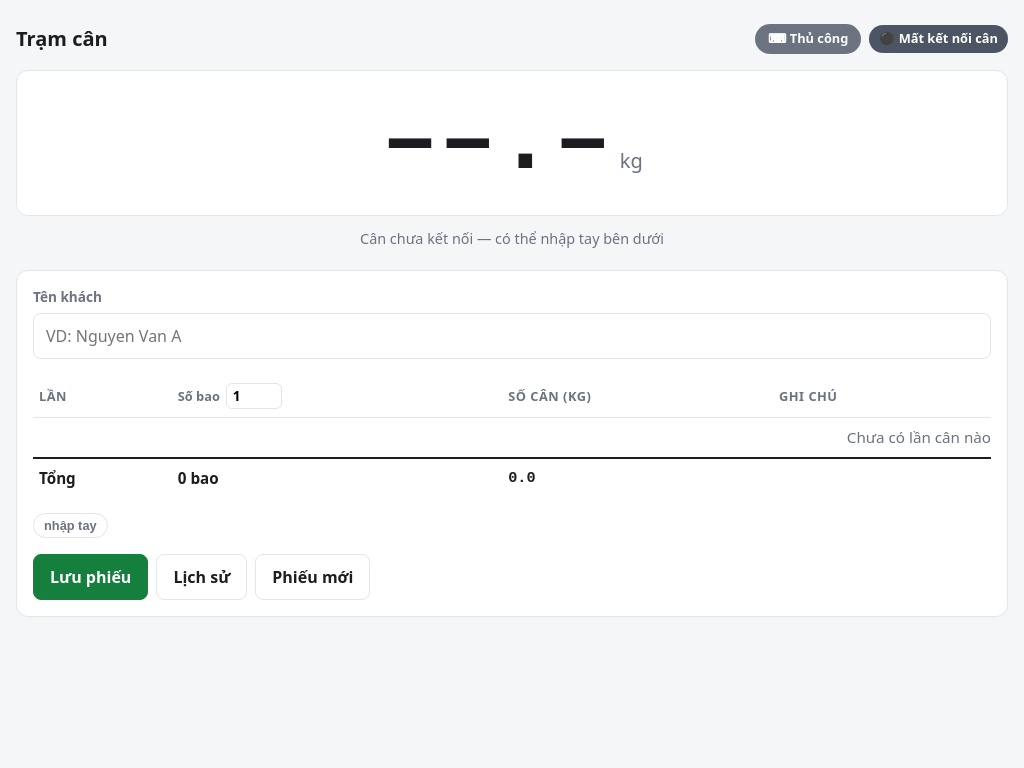
Scenario: WeighScreen › thêm lần cân thủ công khi không kết nối cân
This screenshot has width=1024, height=768.
Click the button "nhập tay" at (70, 526), box [33,513,108,538]
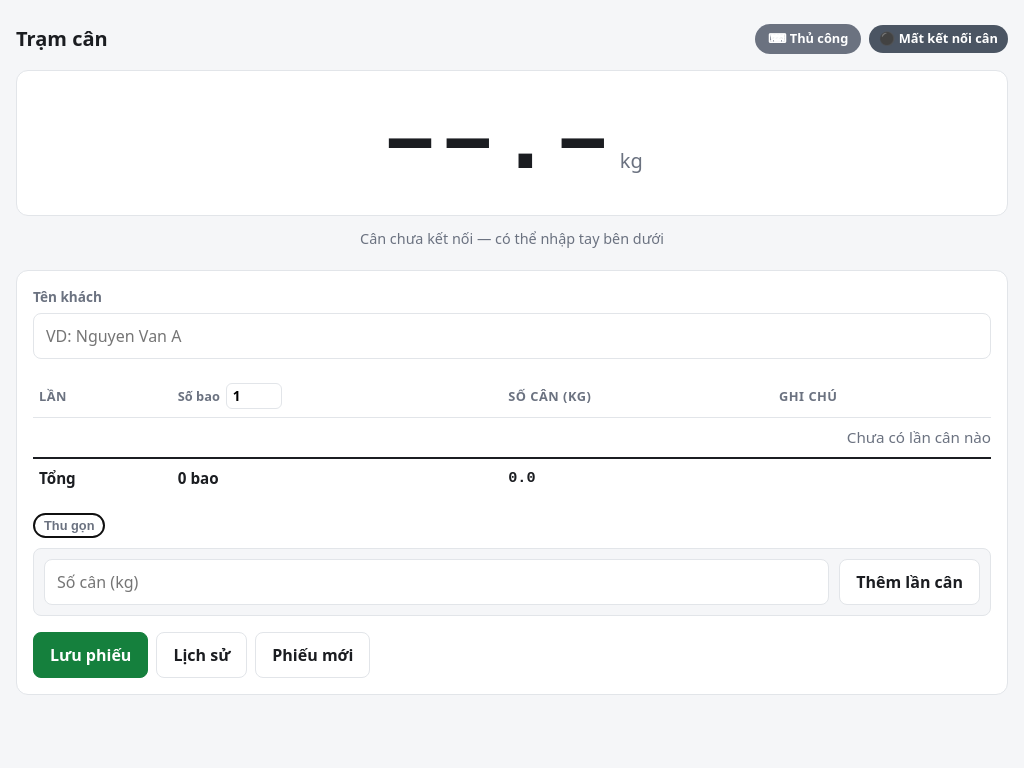
Type "85.5" into the number field named "Số cân thủ công (kg)" at (437, 582), box [44,559,829,605]
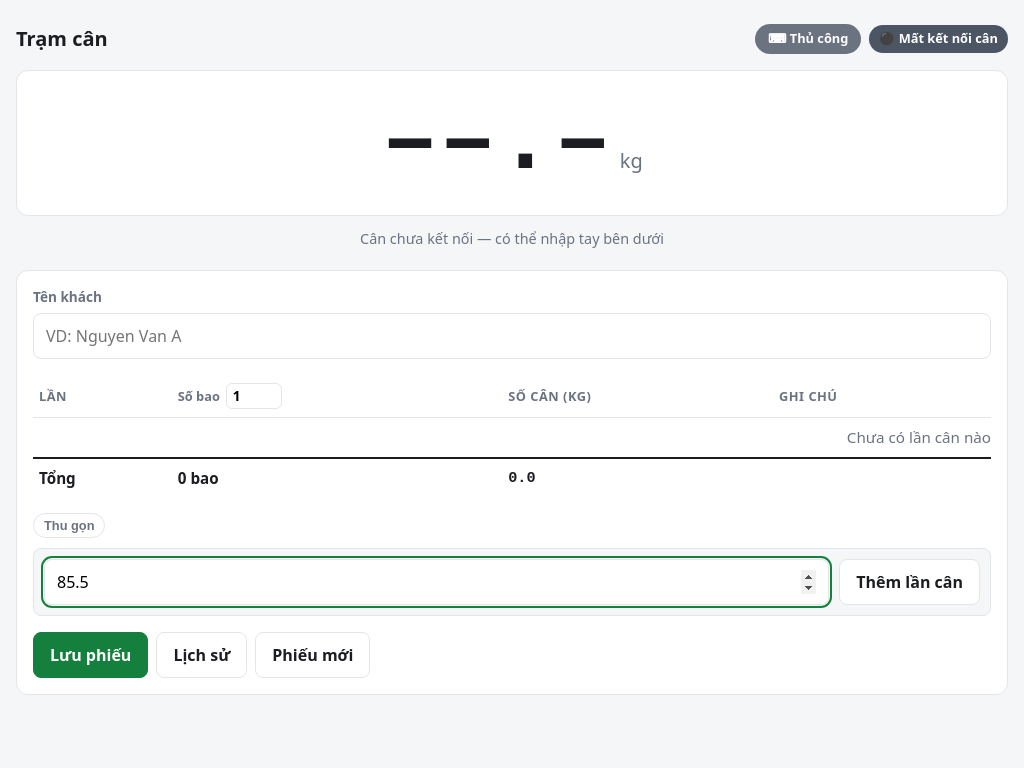
Click the button "Thêm lần cân" at (910, 582), box [839,559,980,605]
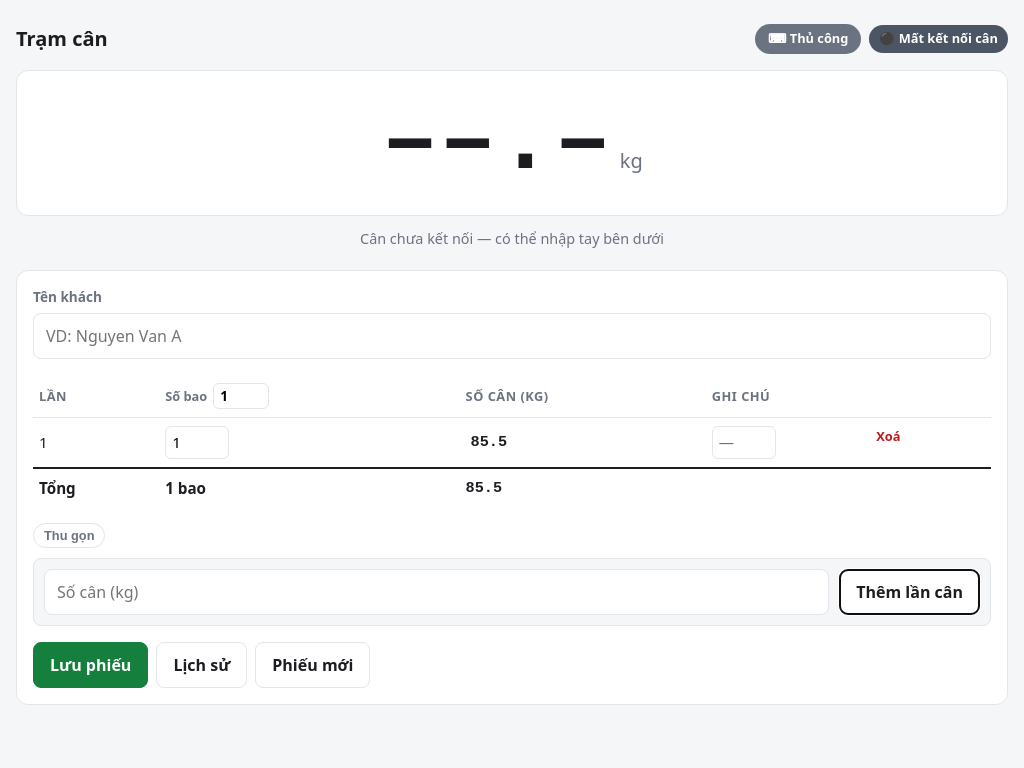
Expected: the number field named "Số bao lần 1" is shown, [165,426,229,459]
Expected: the number of buttons "85.5" is 2, [466,428,512,457]; [460,468,706,508]
